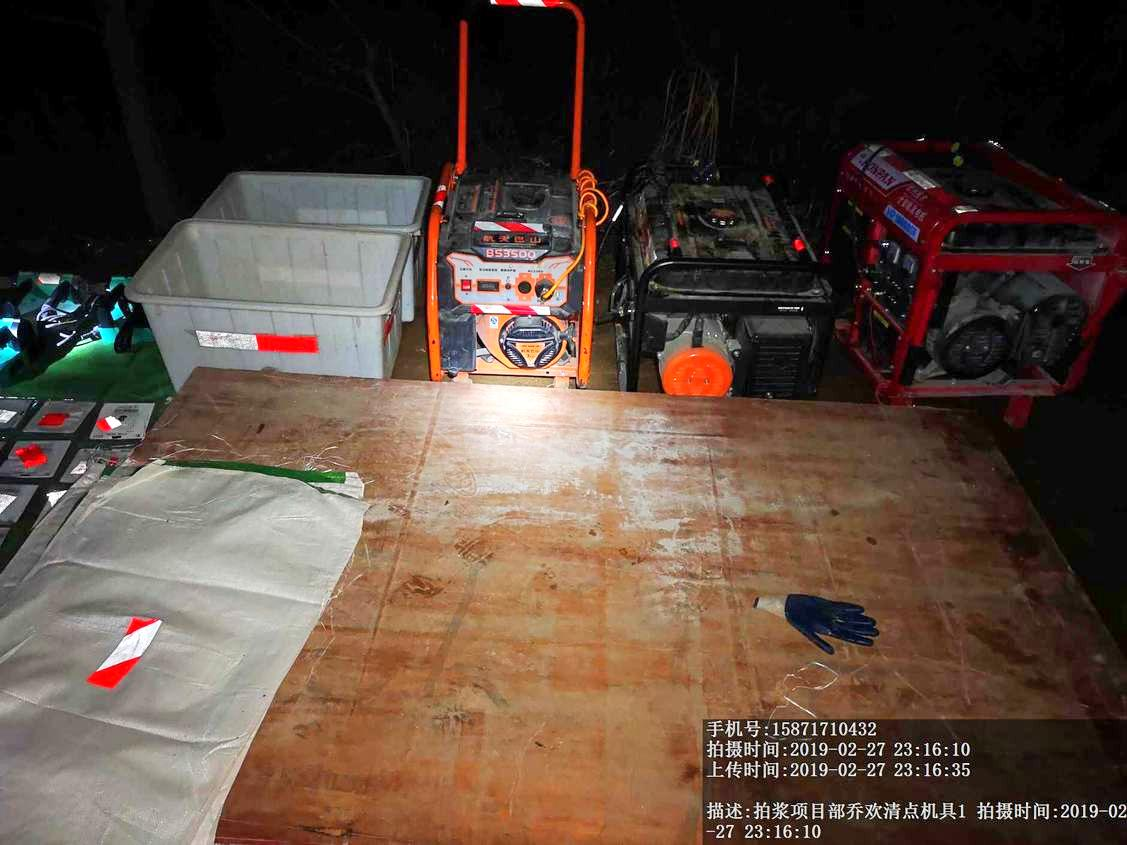BZD: (11, 466, 375, 835)
DJ: (825, 102, 1108, 408), (425, 4, 597, 385), (602, 127, 826, 407)
T: (123, 220, 413, 379), (169, 143, 422, 219)
